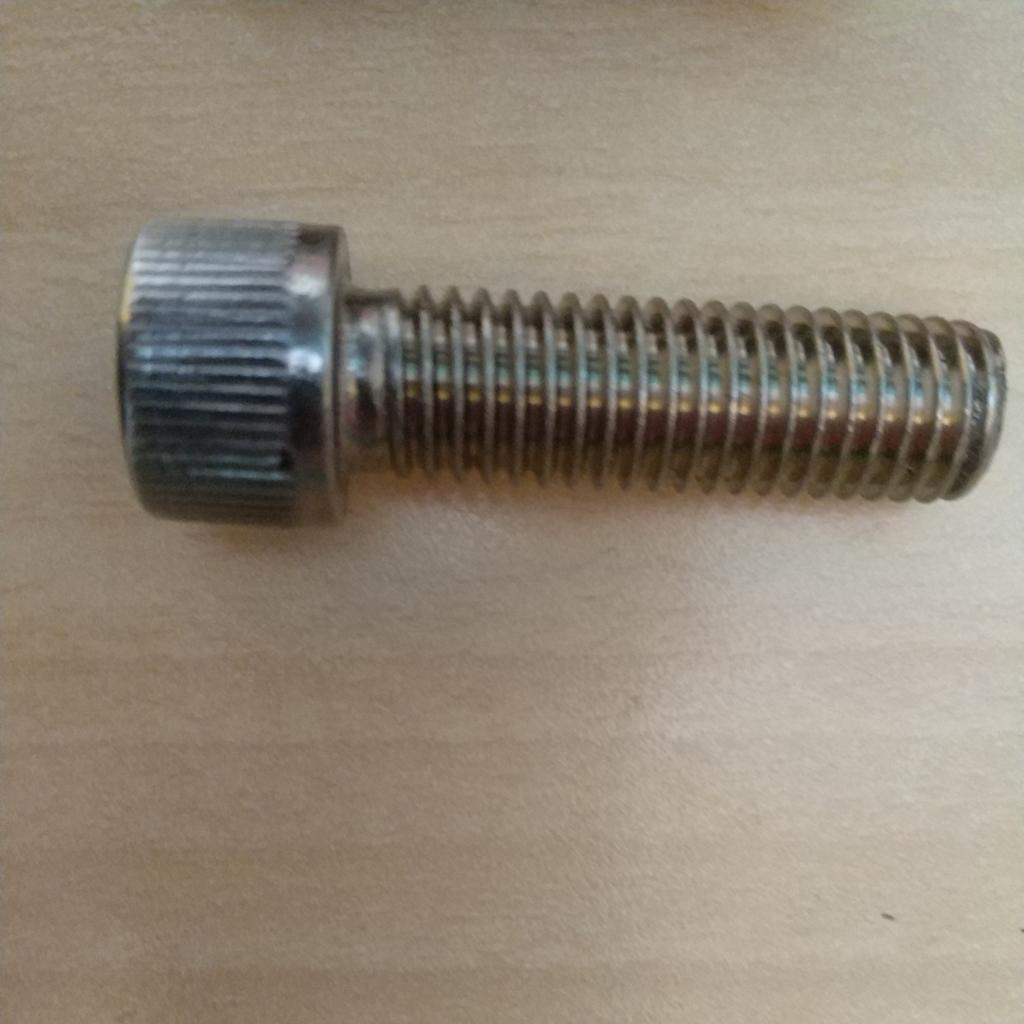screwtype1silver: (107, 206, 1007, 543)
